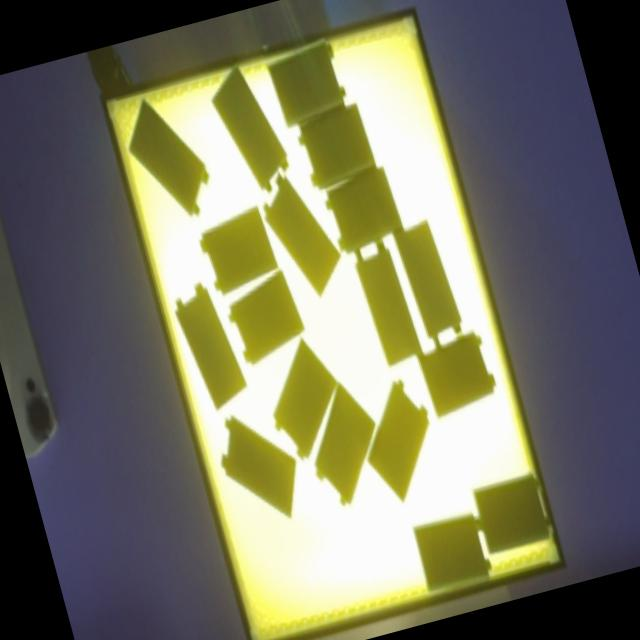bateria: (211, 63, 289, 192), (263, 173, 340, 299), (174, 283, 247, 411), (129, 98, 208, 216), (355, 240, 422, 367), (395, 220, 461, 346), (367, 378, 430, 503), (273, 338, 336, 459), (228, 269, 306, 365), (222, 416, 295, 518), (316, 381, 375, 506), (325, 166, 403, 253), (268, 41, 346, 127), (418, 331, 496, 417), (298, 102, 375, 189), (201, 208, 278, 294), (473, 473, 552, 553), (413, 513, 492, 593)
mesa: (96, 6, 563, 640)
